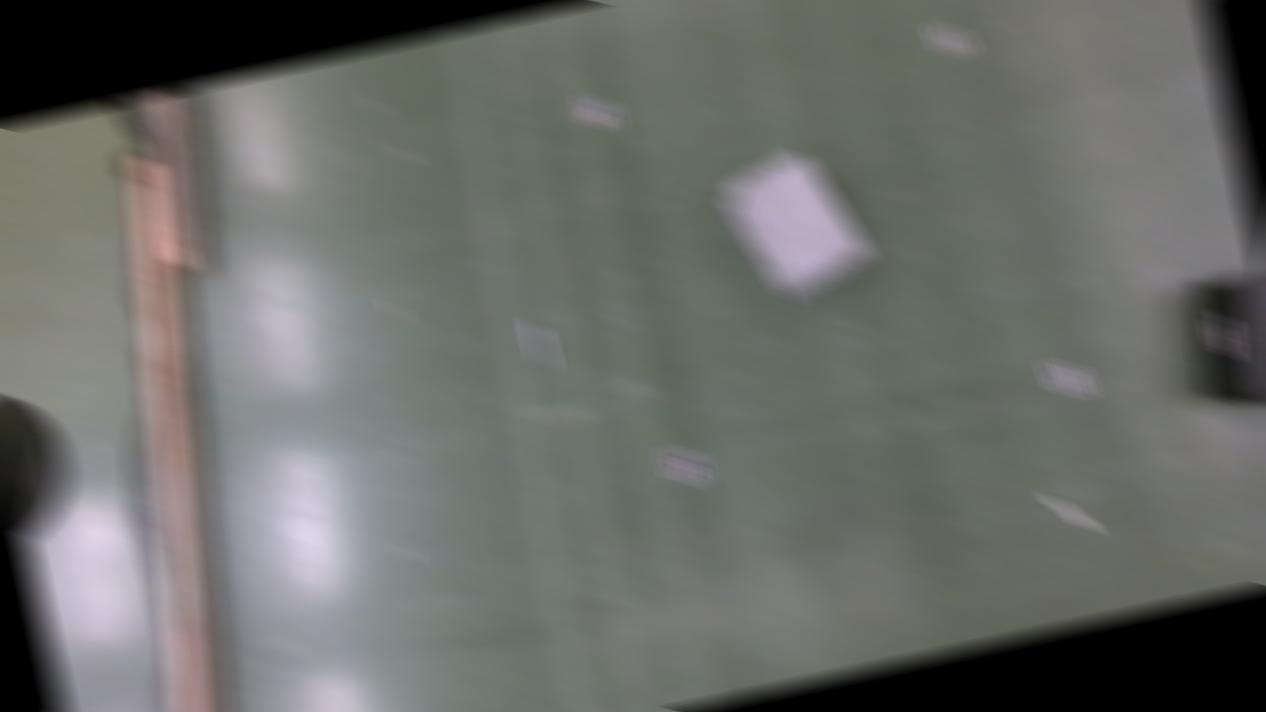probes: (1044, 488, 1094, 537), (525, 321, 553, 368)
rako: (716, 142, 878, 312), (1178, 266, 1266, 420)
